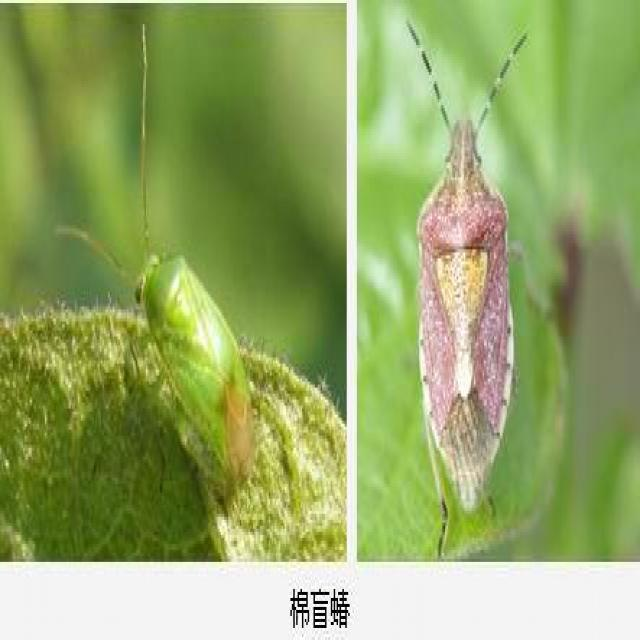Miridae-Adult-: (51, 20, 263, 498)
